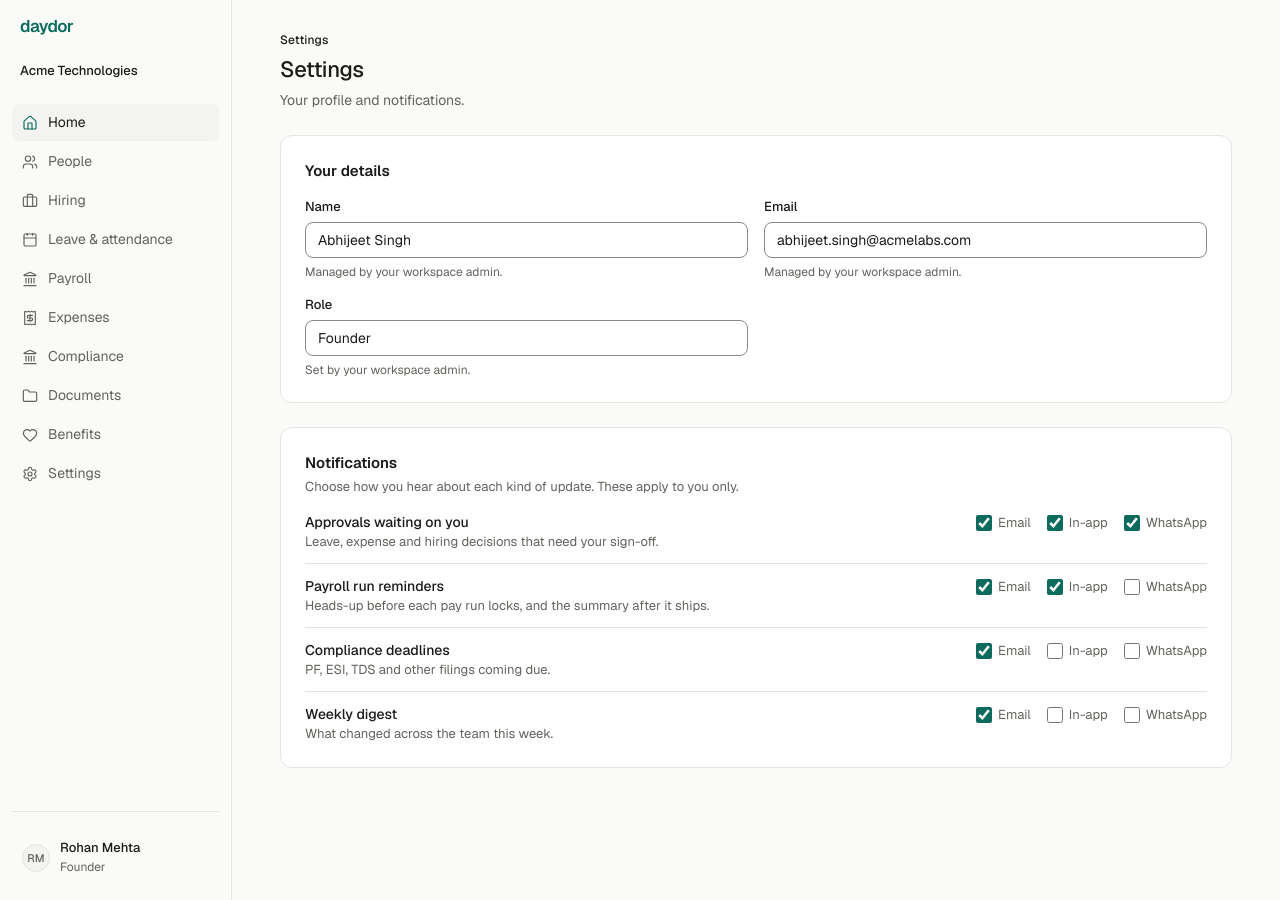
Test case: Settings › puts a notification toggle back and says why when the server refuses it
The image size is (1280, 900).
Click the checkbox labelled "Email" in the row of "Approvals waiting on you" at (984,522), box x1=976 y1=514 x2=992 y2=530
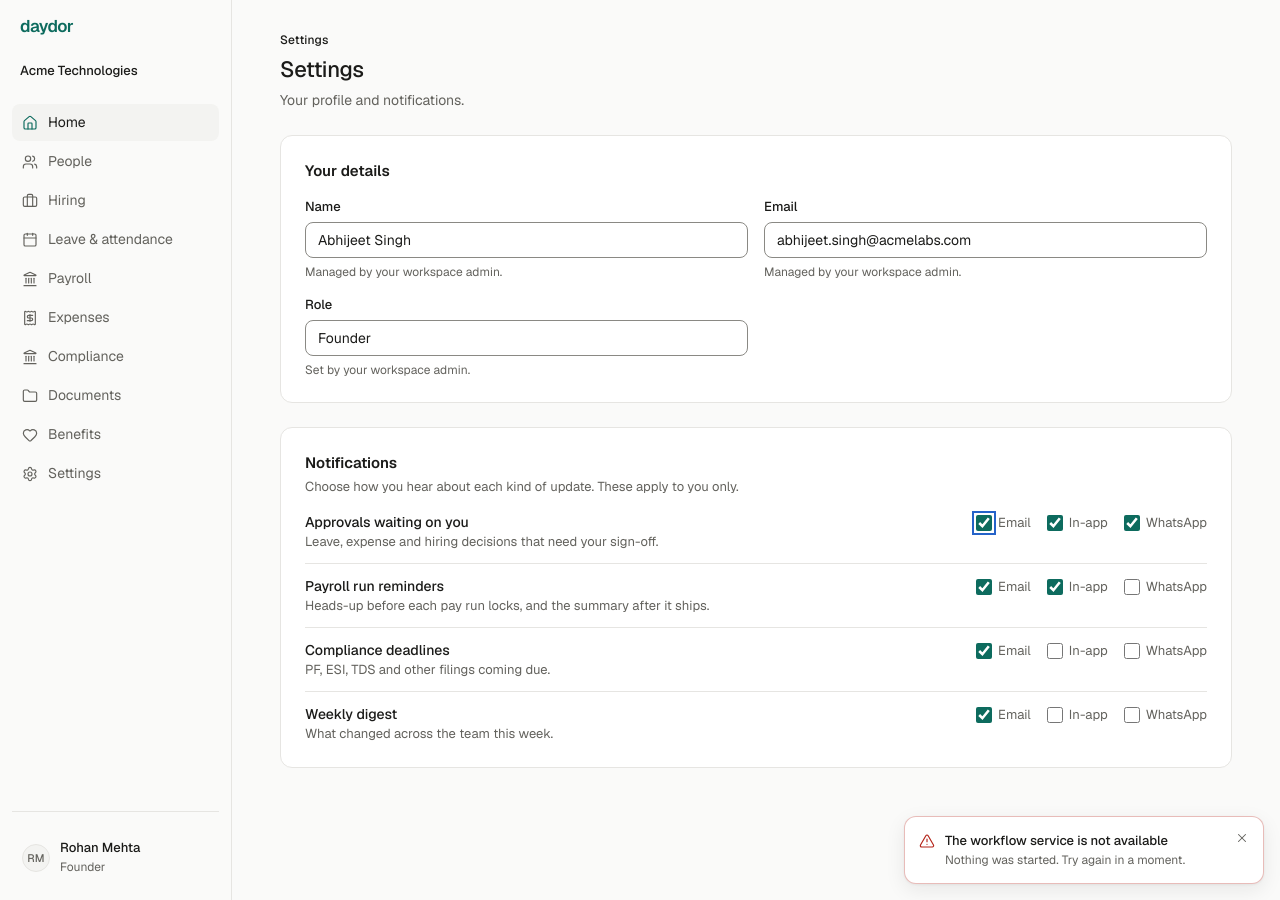
Result: the text "The workflow service is not available" is shown at x1=945 y1=832 x2=1168 y2=849
